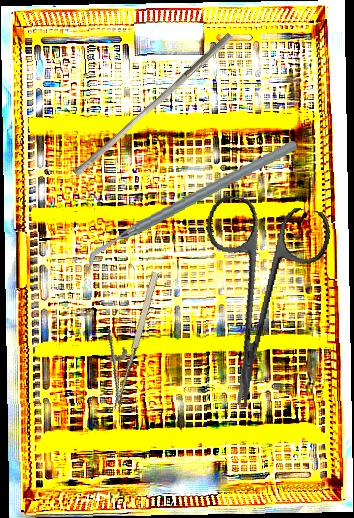Chopper: (74, 140, 307, 271)
Iris Scissors: (176, 192, 334, 416)
Needle Holder: (85, 264, 164, 412)
Pusher: (72, 26, 234, 183)
